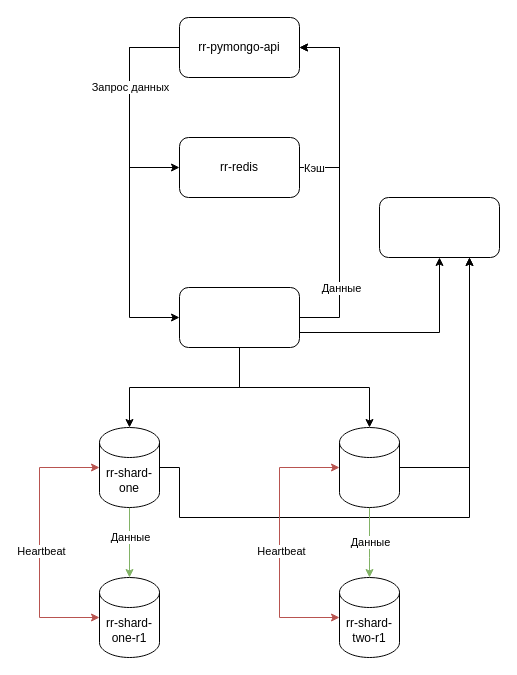
Image size: 517x675. Some labels were removed from this diagram. Each missing label, with the box of its shape:
rr-config-server: (378, 196, 500, 258)
rr-mongo-router: (178, 286, 300, 348)
rr-shard-two: (338, 426, 400, 508)
